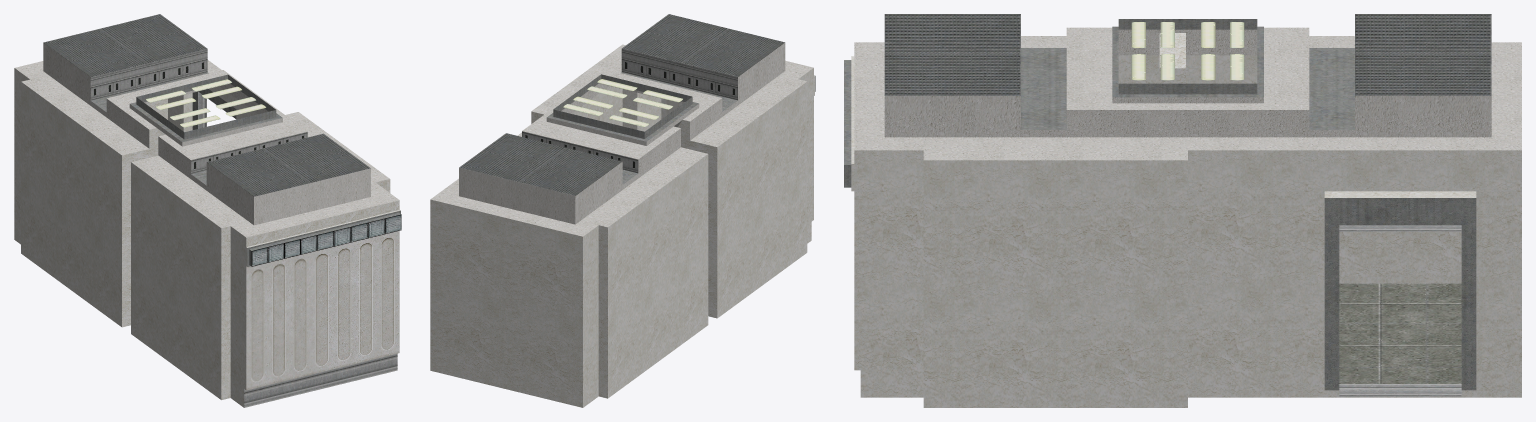
The model's file is ply_corl_house_sm_s01_fp2_r4_room2_mesh.fbx.
3 renders of one model, left to right at view 1: azimuth 30°, elevation 25°; view 2: azimuth 150°, elevation 25°; view 3: azimuth 270°, elevation 25°, orthographic. The views are drawn at different scales.
Parts seen in each view (by area): view 1: mesh_node; view 2: mesh_node; view 3: mesh_node.
Boxes of the visible parts, x1,y1,x2,y2 form: mesh_node: (14,14,401,407); mesh_node: (430,14,815,407); mesh_node: (844,14,1521,407).
Bounding box in the file's own units: 4.95 × 5.31 × 11.17.
